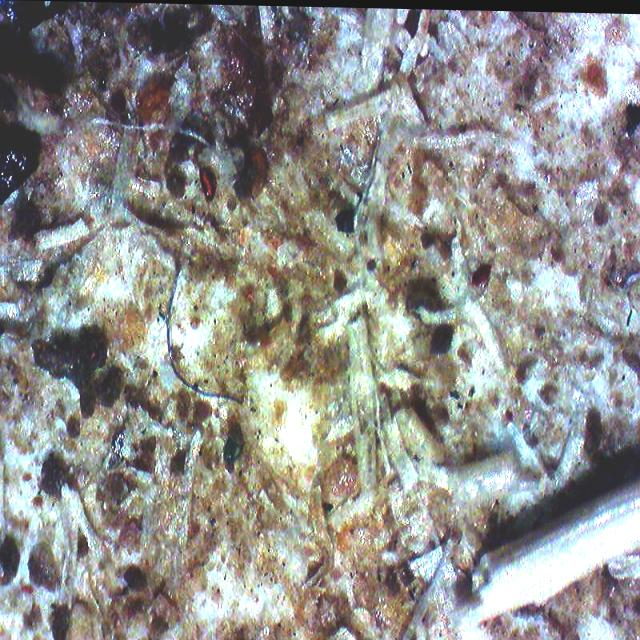microplastic: (380, 409, 488, 640), (165, 268, 242, 405)
